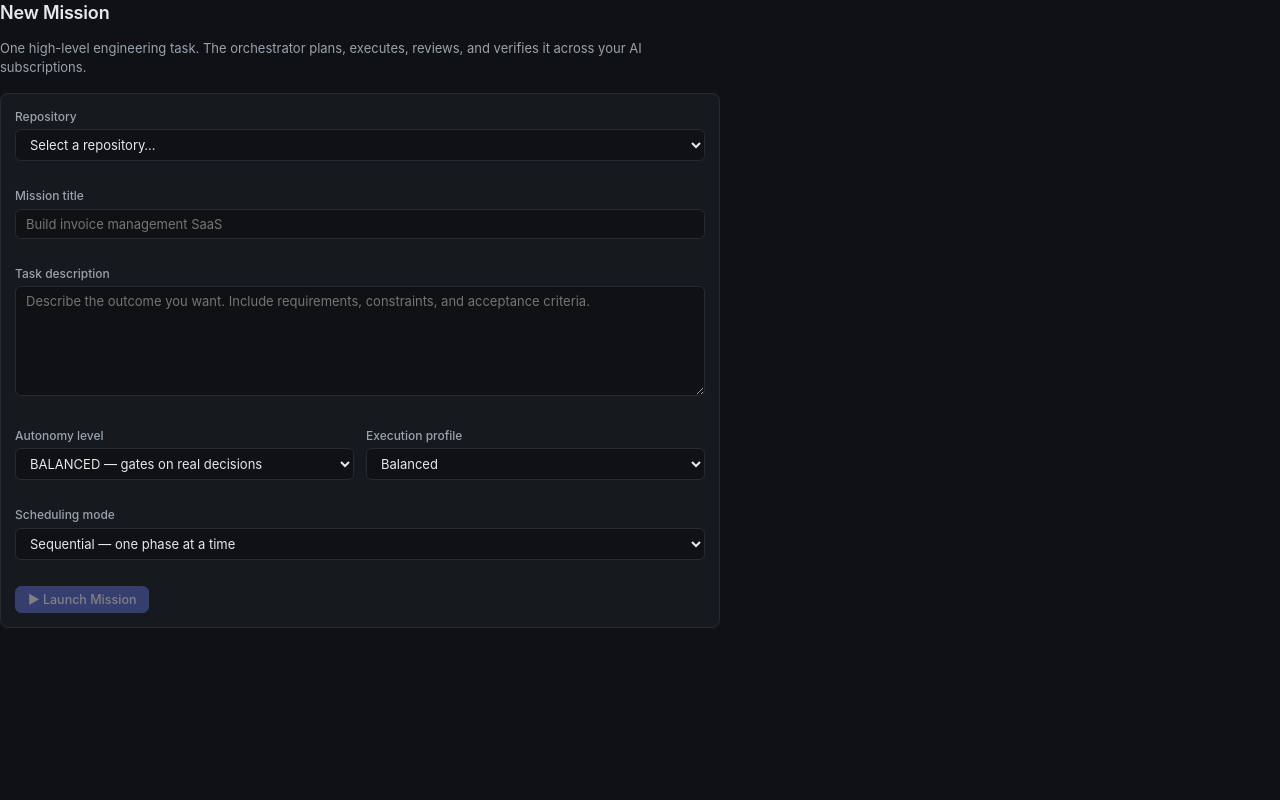
NewMissionPage scheduling mode › validates a manual DAG before creating a mission
The width and height of the screenshot is (1280, 800).
Select "Test (/tmp/test)" in the dropdown named "Repository" at (360, 145), box [15,129,705,161]
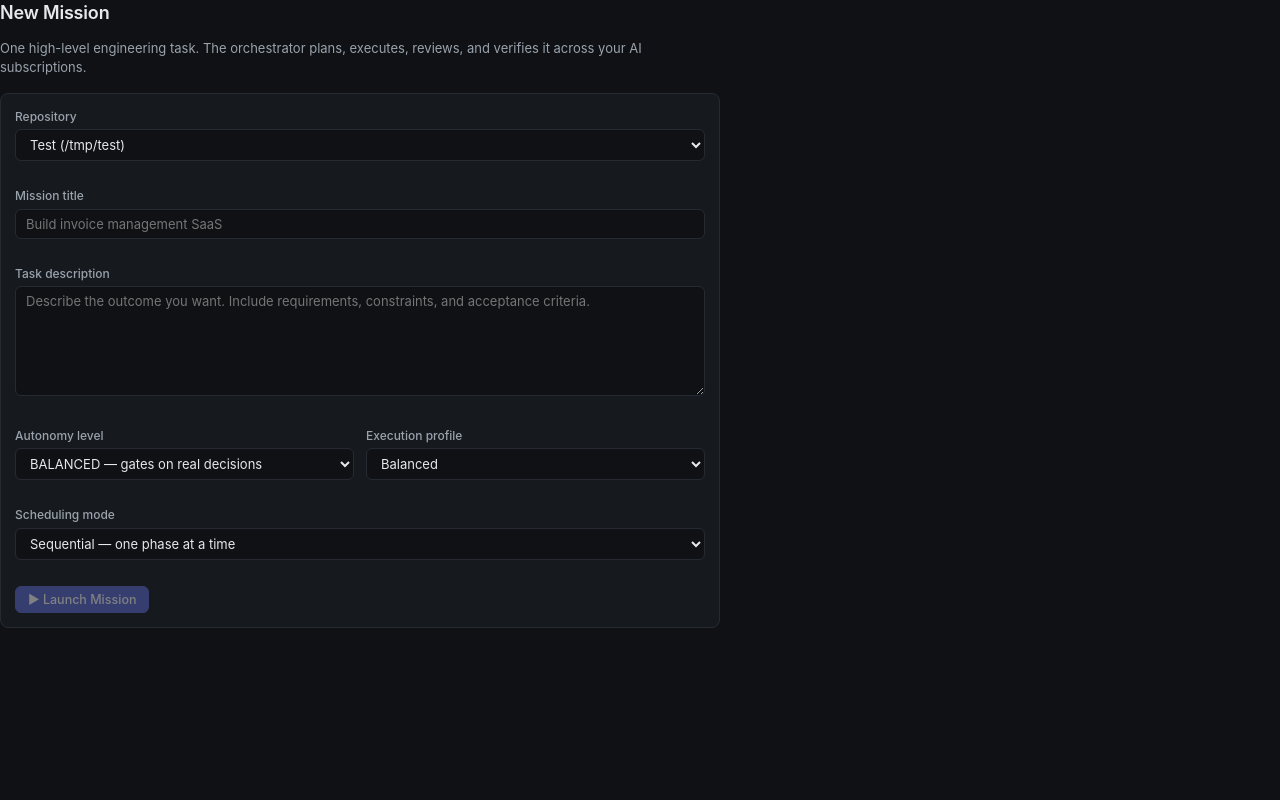
Type "Build" into the field named "Mission title".
click(360, 224); type("Build")  # box [15,209,705,239]
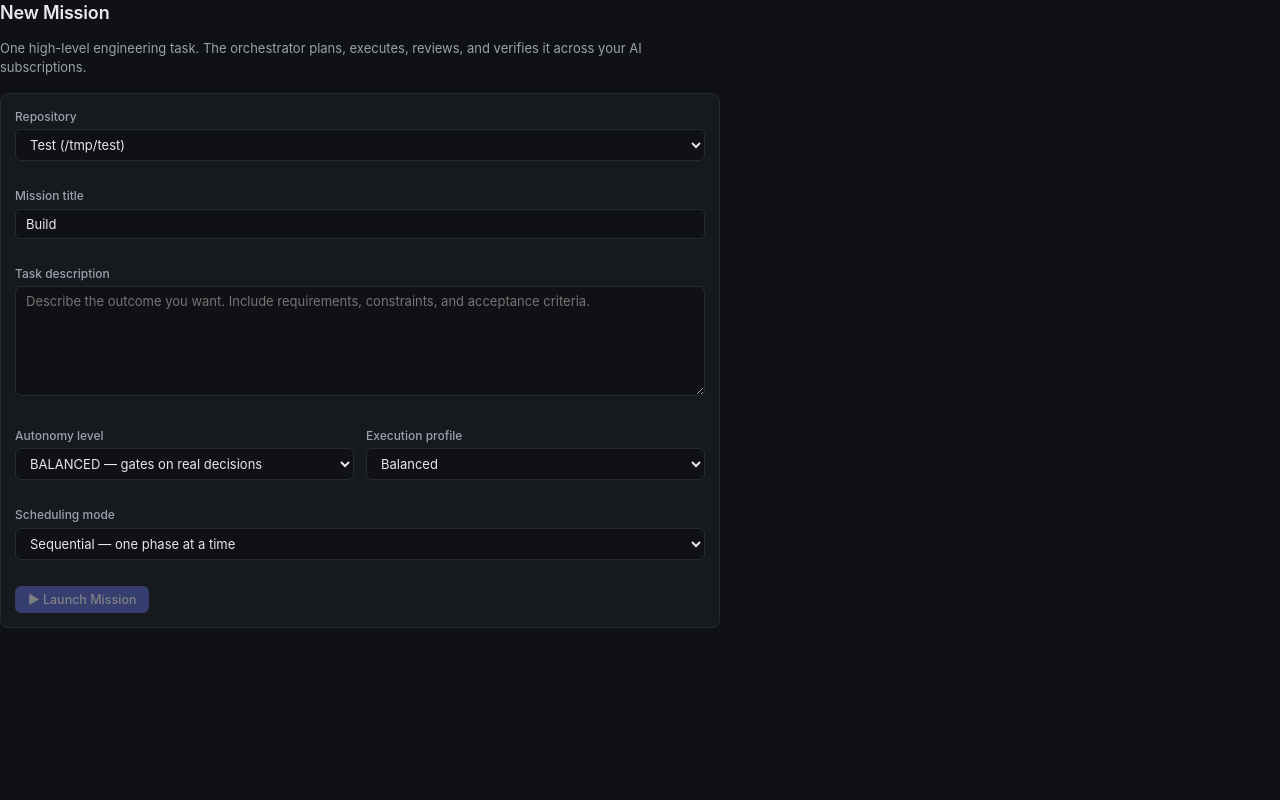
Replace the text in the text box named "Task description" with "Build safely" at (360, 341), box [15,286,705,396]
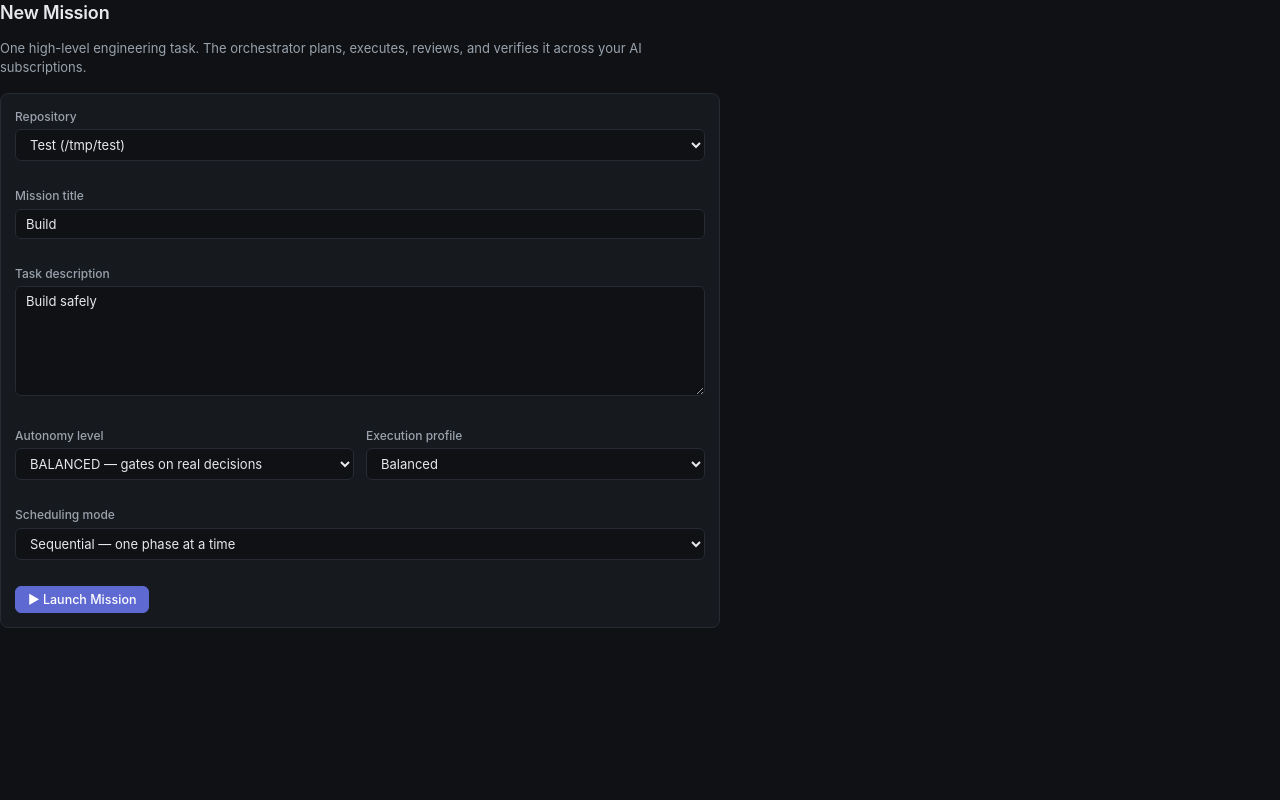
Select "Parallel Safe — independent tasks run together" in the dropdown with test id "scheduling-mode" at (360, 544), box [15,528,705,560]
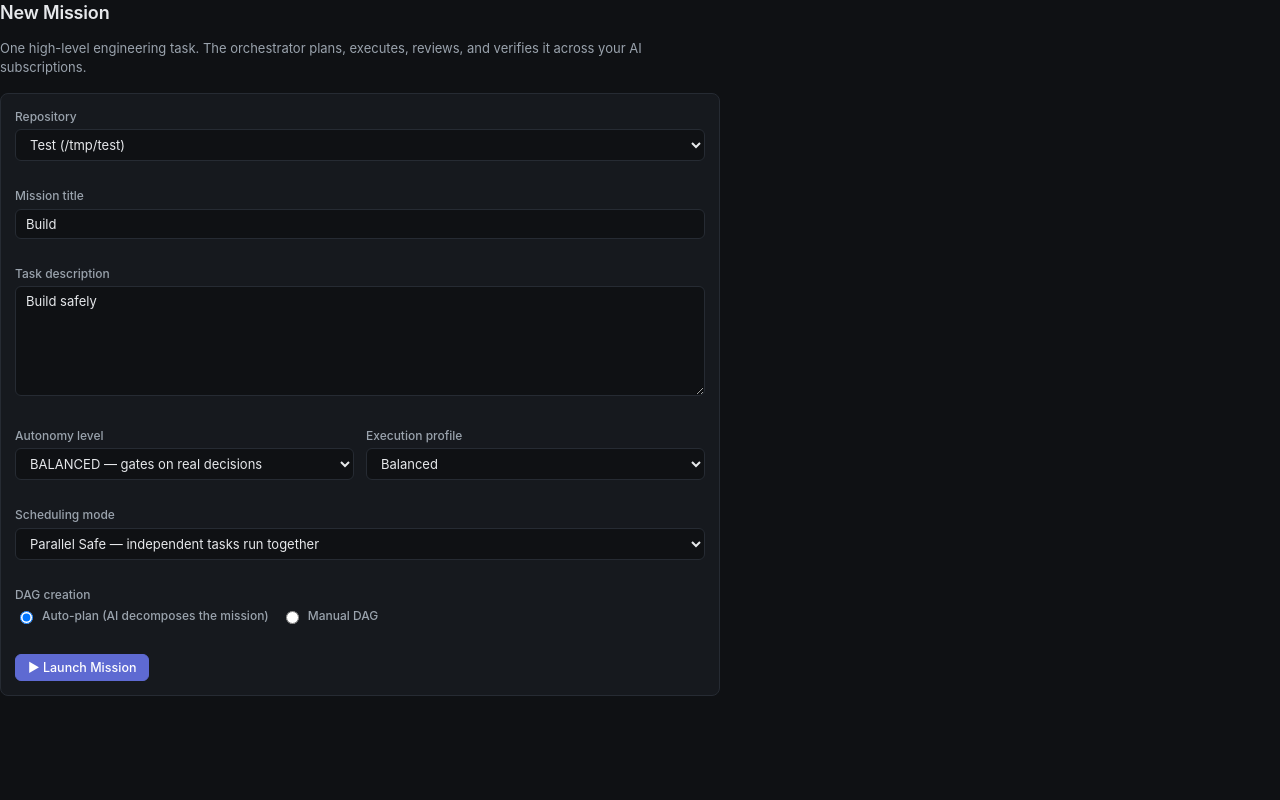
Click the radio button labelled "Manual DAG".
click(292, 617)  # box [286,611,299,624]
(page scrolled)
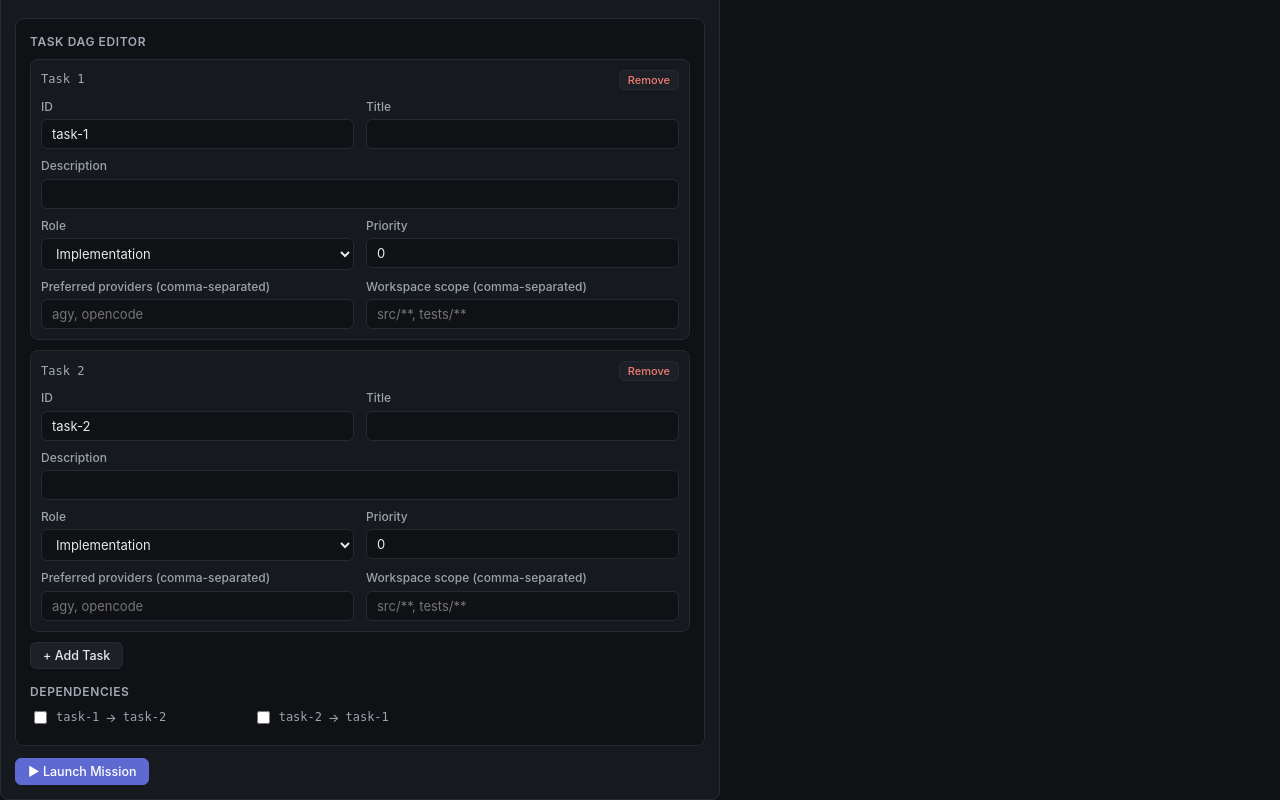
Click the button with test id "launch-mission".
click(82, 772)  # box [15,758,150,785]
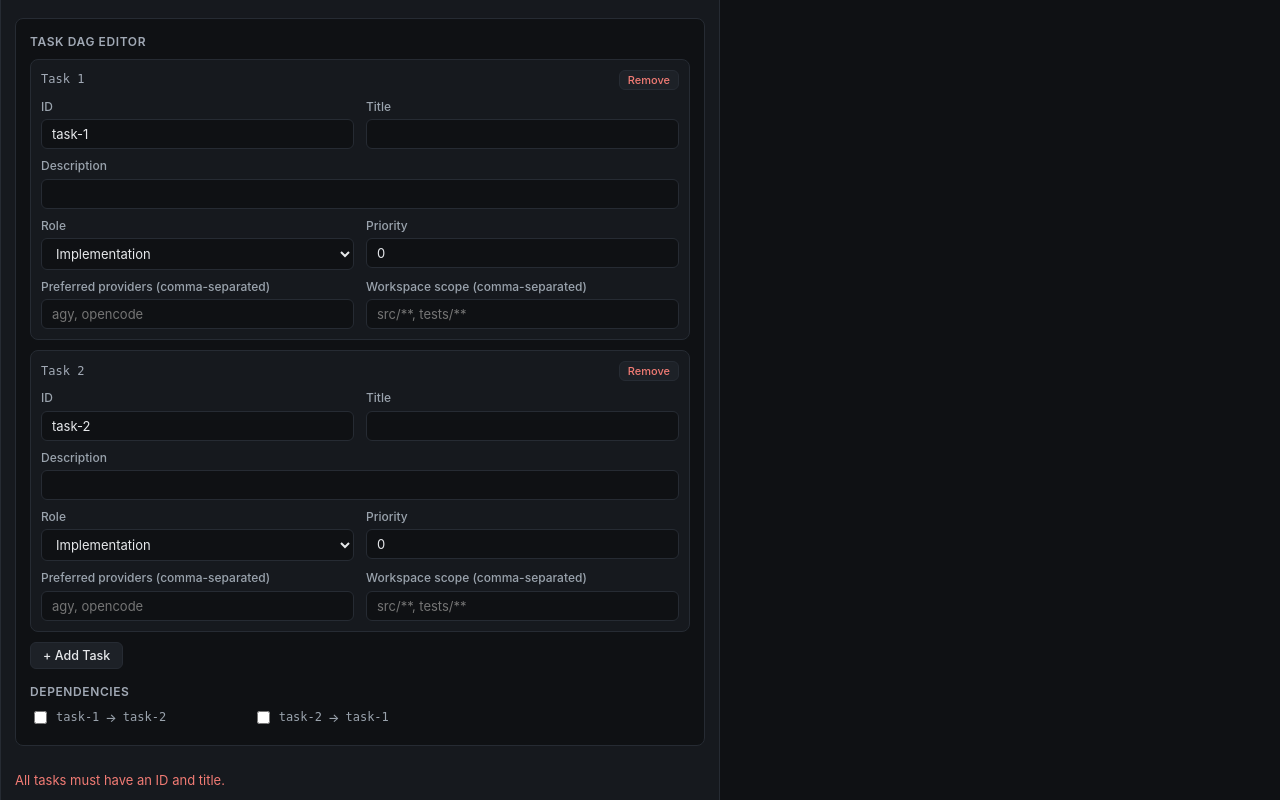
Expected: the text "All tasks must have an ID and title." is shown, [15,772,225,788]
